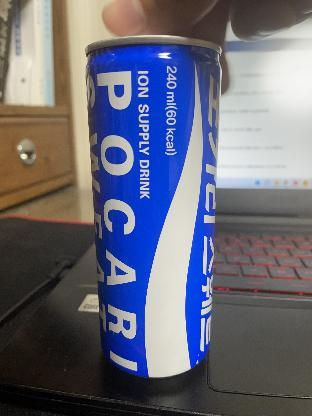Can: (66, 30, 226, 396)
